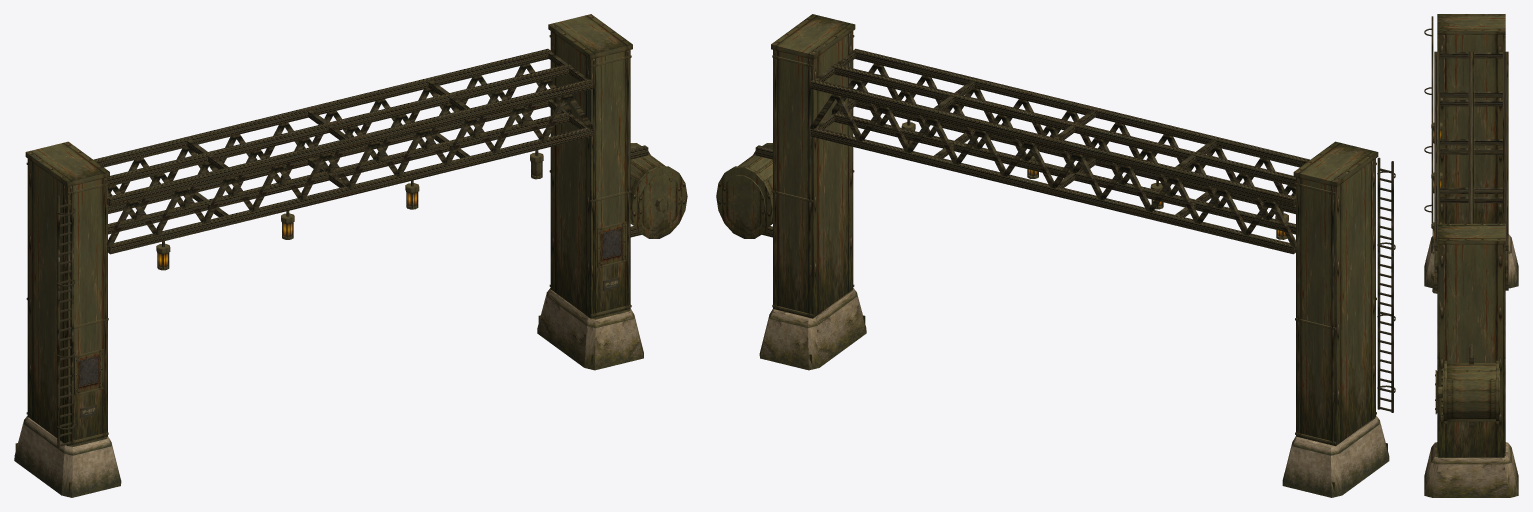
File: tidal-pump-gantry.glb
The picture shows the model from 3 angles, left to right: view 1: azimuth 30°, elevation 25°; view 2: azimuth 150°, elevation 25°; view 3: azimuth 270°, elevation 25°; orthographic projection. The views are drawn at different scales.
Visible parts, largest first — view 1: GW_MOD_structure_tidal_pump_metal, GW_MOD_structure_tidal_pump_concrete; view 2: GW_MOD_structure_tidal_pump_metal, GW_MOD_structure_tidal_pump_concrete; view 3: GW_MOD_structure_tidal_pump_metal, GW_MOD_structure_tidal_pump_concrete.
Boxes of the visible parts, x1,y1,x2,y2 form: GW_MOD_structure_tidal_pump_metal: (25,14,687,447); GW_MOD_structure_tidal_pump_concrete: (14,288,643,497); GW_MOD_structure_tidal_pump_metal: (716,14,1395,446); GW_MOD_structure_tidal_pump_concrete: (759,288,1389,497); GW_MOD_structure_tidal_pump_metal: (1424,14,1508,457); GW_MOD_structure_tidal_pump_concrete: (1424,234,1518,497).
Bounding box in the file's own units: 51.25 × 23.71 × 8.
5 materials, 5 textured.
